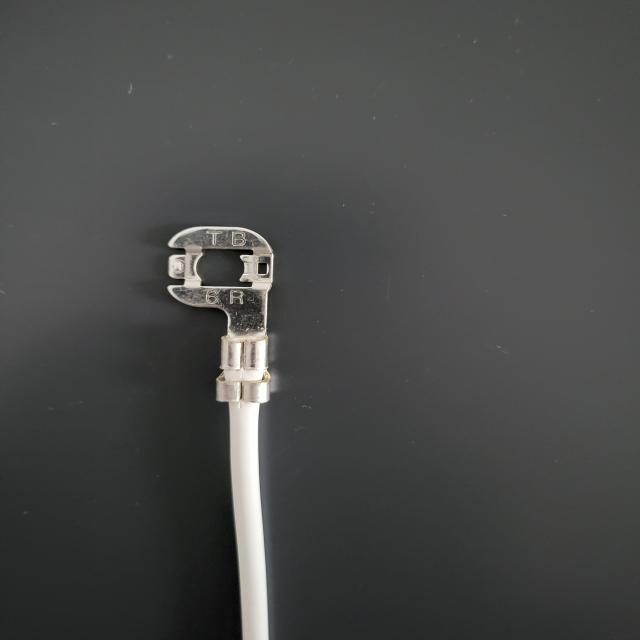defect: (173, 330, 386, 443)
